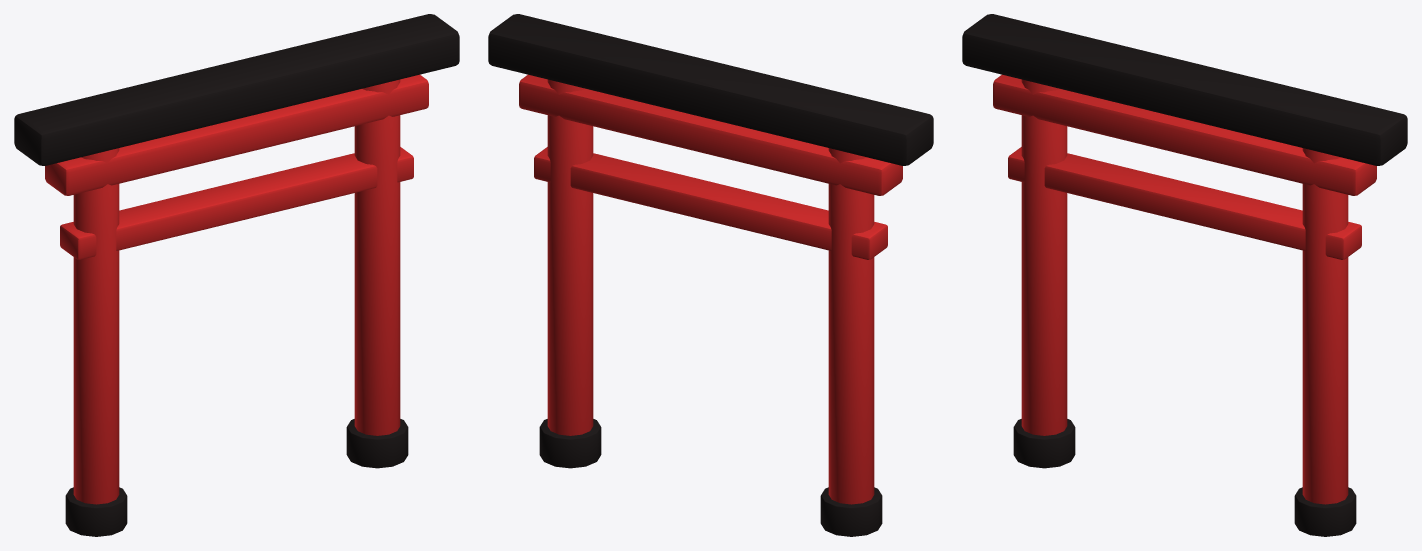
Rendered from Torii.fbx.
The picture shows the model from 3 angles, left to right: view 1: azimuth 30°, elevation 25°; view 2: azimuth 150°, elevation 25°; view 3: azimuth 330°, elevation 25°; orthographic projection.
Visible parts, largest first — view 1: Torii; view 2: Torii; view 3: Torii.
Boxes of the visible parts, x1,y1,x2,y2 form: Torii: (14,14,459,536); Torii: (488,14,933,536); Torii: (962,14,1407,536).
Size of the model in its own units: 1500 by 1420 by 190.
